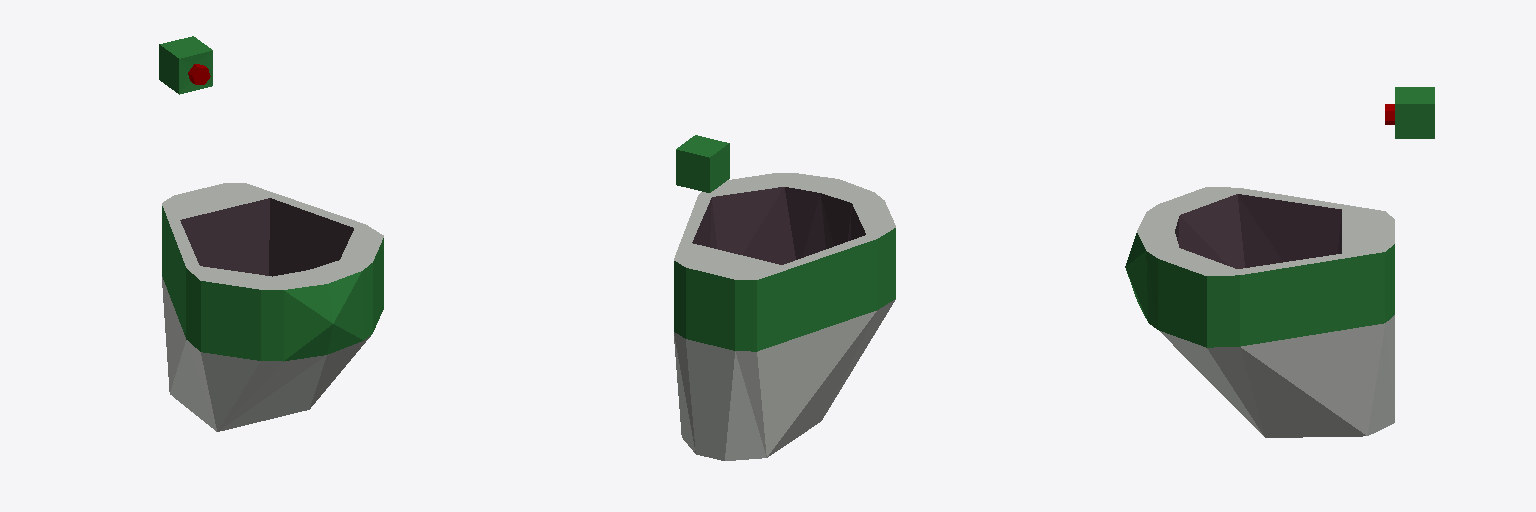
The model's file is privada.obj.
3 renders of one model, left to right at view 1: azimuth 30°, elevation 25°; view 2: azimuth 150°, elevation 25°; view 3: azimuth 270°, elevation 25°, orthographic.
Parts seen in each view (by area): view 1: Cube; view 2: Cube; view 3: Cube.
Boxes of the visible parts, box(x1,y1,x2,y2) form: Cube: box(159, 36, 383, 431); Cube: box(674, 135, 895, 460); Cube: box(1125, 87, 1434, 437).
Bounding box in the file's own units: 10.29 × 17.08 × 15.01.